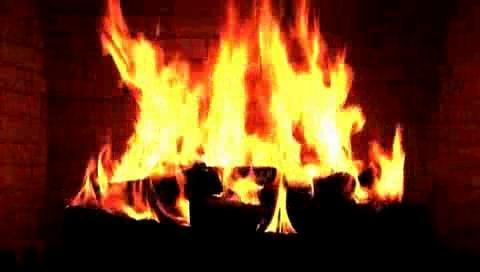fire: (85, 0, 414, 232)
